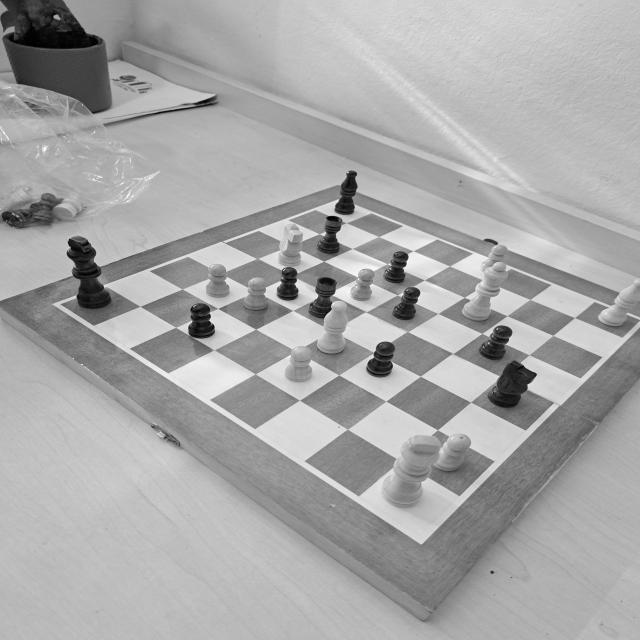chess-table-corners: (396, 520, 442, 550), (327, 194, 357, 210), (48, 295, 74, 313), (636, 314, 640, 330)
